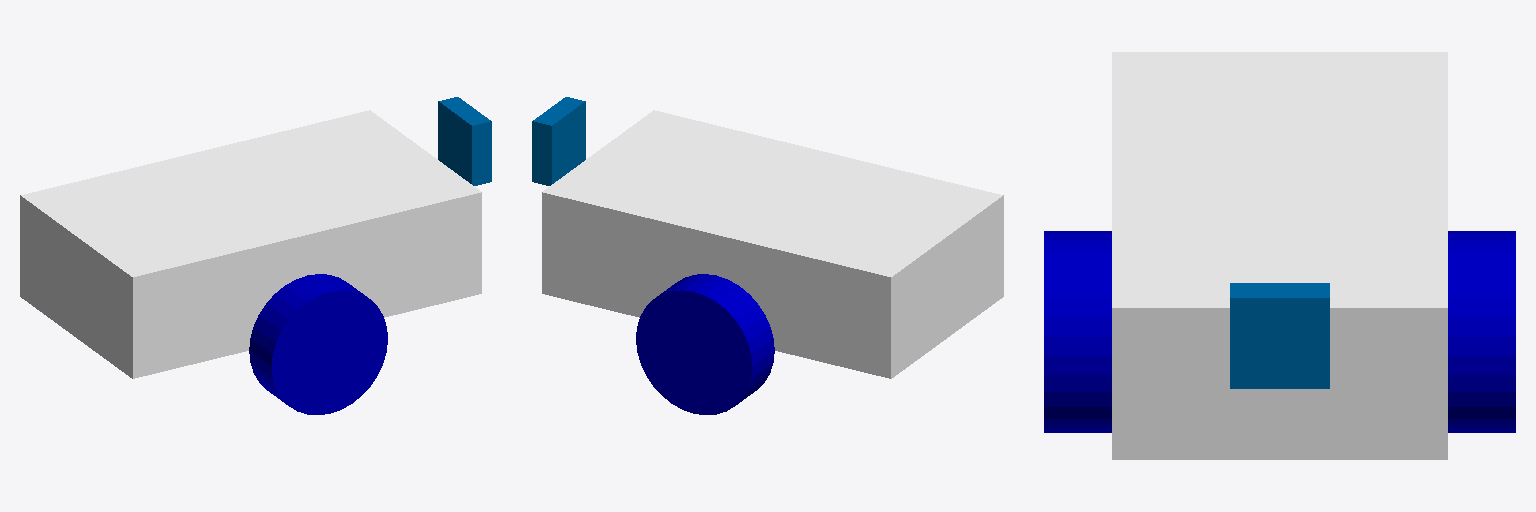
robot.urdf — gpg3:
<?xml version="1.0"?>
<robot name="gpg3">

  <material name="blue">
    <color rgba="0 0 .8 1"/>
  </material>

  <material name="white">
    <color rgba="1 1 1 1"/>
  </material>

  <!-- 'base_footprint' is the ground link -->
  <link name="base_footprint"/>

  <joint name="base_joint" type="fixed">
    <parent link="base_footprint"/>
    <child link="base_link"/>
    <origin xyz="0 0 0.05" rpy="0 0 0"/>
  </joint>

  <link name="base_link">
    <visual>
      <geometry>
        <box size="0.18 0.10 0.05"/>
      </geometry>
      <material name="white"/>
    </visual>
    <collision>
      <geometry>
        <box size="0.18 0.10 0.05"/>
      </geometry>
	</collision>
    <inertial>
      <origin xyz="-0.02 0 0" rpy="0 0 0"/>
      <mass value="0.534"/>
      <inertia ixx="1.0e-03" ixy="0" ixz="0" iyy="1.0e-03" iyz="0" izz="2.45e-03" />
    </inertial>
  </link>

  <link name="left_wheel_link">
    <visual>
      <origin rpy="1.57075 0 0"/>
      <geometry>
        <cylinder length="0.02" radius="0.03"/>
      </geometry>
      <material name="blue"/>
    </visual>
    <collision>
      <origin rpy="1.57075 0 0"/>
      <geometry>
        <cylinder length="0.02" radius="0.03"/>
      </geometry>
	</collision>
    <inertial>
      <mass value="0.032" />
      <inertia ixx="1.74e-05" ixy="0" ixz="0" iyy="1.05e-05" iyz="0" izz="1.05e-05" />
    </inertial>
  </link>

  <joint name="left_wheel" type="continuous">
    <parent link="base_link"/>
    <child link="left_wheel_link"/>
    <origin xyz="0 0.06 -0.025"/>
    <axis xyz="0 1 0"/>
  </joint>

  <link name="right_wheel_link">
    <visual>
      <origin rpy="1.57075 0 0"/>
      <geometry>
        <cylinder length="0.02" radius="0.03"/>
      </geometry>
      <material name="blue"/>
    </visual>
    <collision>
      <origin rpy="1.57075 0 0"/>
      <geometry>
        <cylinder length="0.02" radius="0.03"/>
      </geometry>
      <material name="blue"/>
    </collision>
    <inertial>
      <origin xyz="0 0 0" />
      <mass value="0.032" />
      <inertia ixx="1.74e-05" ixy="0" ixz="0" iyy="1.05e-05" iyz="0" izz="1.05e-05" />
    </inertial>
  </link>

  <joint name="right_wheel" type="continuous">
    <parent link="base_link"/>
    <child link="right_wheel_link"/>
    <origin xyz="0 -0.06 -0.025"/>
    <axis xyz="0 1 0"/>
  </joint>

  <link name="camera_link">
    <visual>
      <geometry>
        <box size="0.03 0.03 0.01"/>
      </geometry>
    </visual>
    <collision>
      <geometry>
        <box size="0.03 0.03 0.01"/>
      </geometry>
    </collision>
	<inertial>
	  <mass value="0.178" />
	  <inertia ixx="1.10e-04" ixy="-1.56e-04" ixz="-3.12e-04" iyy="1.85e-04" iyz="-2.23e-04" izz="2.21e-04" />
	</inertial>
  </link>

  <joint name="servo" type="revolute">
    <axis xyz="0 -1 0"/>
    <limit effort="1000.0" lower="-1" upper="1" velocity="0.5"/>
    <parent link="base_link"/>
    <child link="camera_link"/>
    <origin rpy="-1.57075 0 -1.57075" xyz="0.11 0 0.025"/>
  </joint>

</robot>

--- Render facts (derived) ---
The picture shows the robot from 3 angles, left to right: view 1: azimuth 30°, elevation 25°; view 2: azimuth 150°, elevation 25°; view 3: azimuth 270°, elevation 25°; orthographic projection.
Model gpg3 with 5 links and 4 joints (1 revolute, 2 continuous, 1 fixed), rooted at base_footprint, posed all joints at 0.
Visible links, largest first — view 1: base_link, right_wheel_link, camera_link; view 2: base_link, left_wheel_link, camera_link; view 3: base_link, left_wheel_link, right_wheel_link, camera_link.
Link boxes in pixels (x1,y1,x2,y2): base_link: (20,110,481,378); right_wheel_link: (249,274,387,414); camera_link: (438,97,491,185); base_link: (542,110,1003,378); left_wheel_link: (636,274,774,414); camera_link: (532,97,585,185); base_link: (1112,52,1447,459); left_wheel_link: (1448,231,1515,432); right_wheel_link: (1044,231,1111,432); camera_link: (1230,283,1329,388).
Bounding box of the posed robot: 0.205 × 0.14 × 0.095 m (x, y, z).
Geometry: primitives only (box / cylinder / sphere), no mesh files.